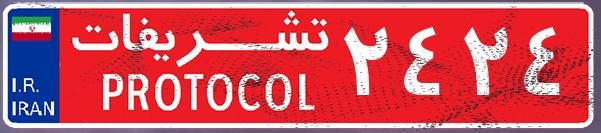2: (340, 20, 400, 115), (460, 20, 520, 115)
4: (400, 20, 460, 115), (520, 20, 580, 115)
تشریفات: (60, 8, 340, 125)
